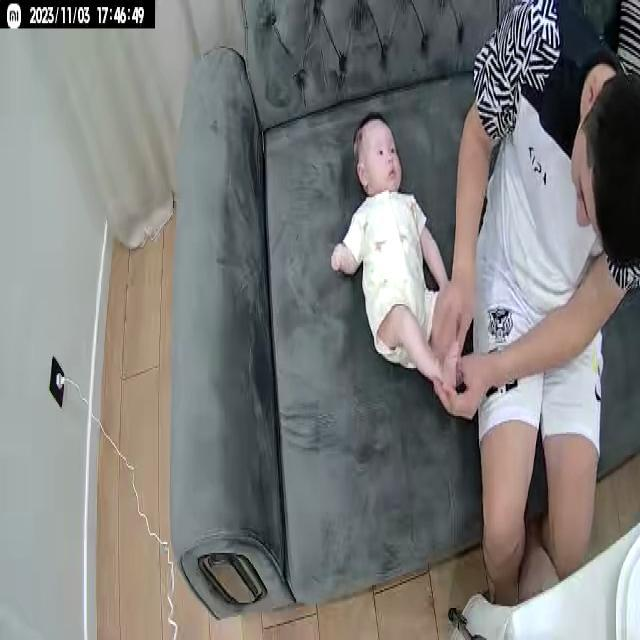baby: (328, 110, 468, 394)
